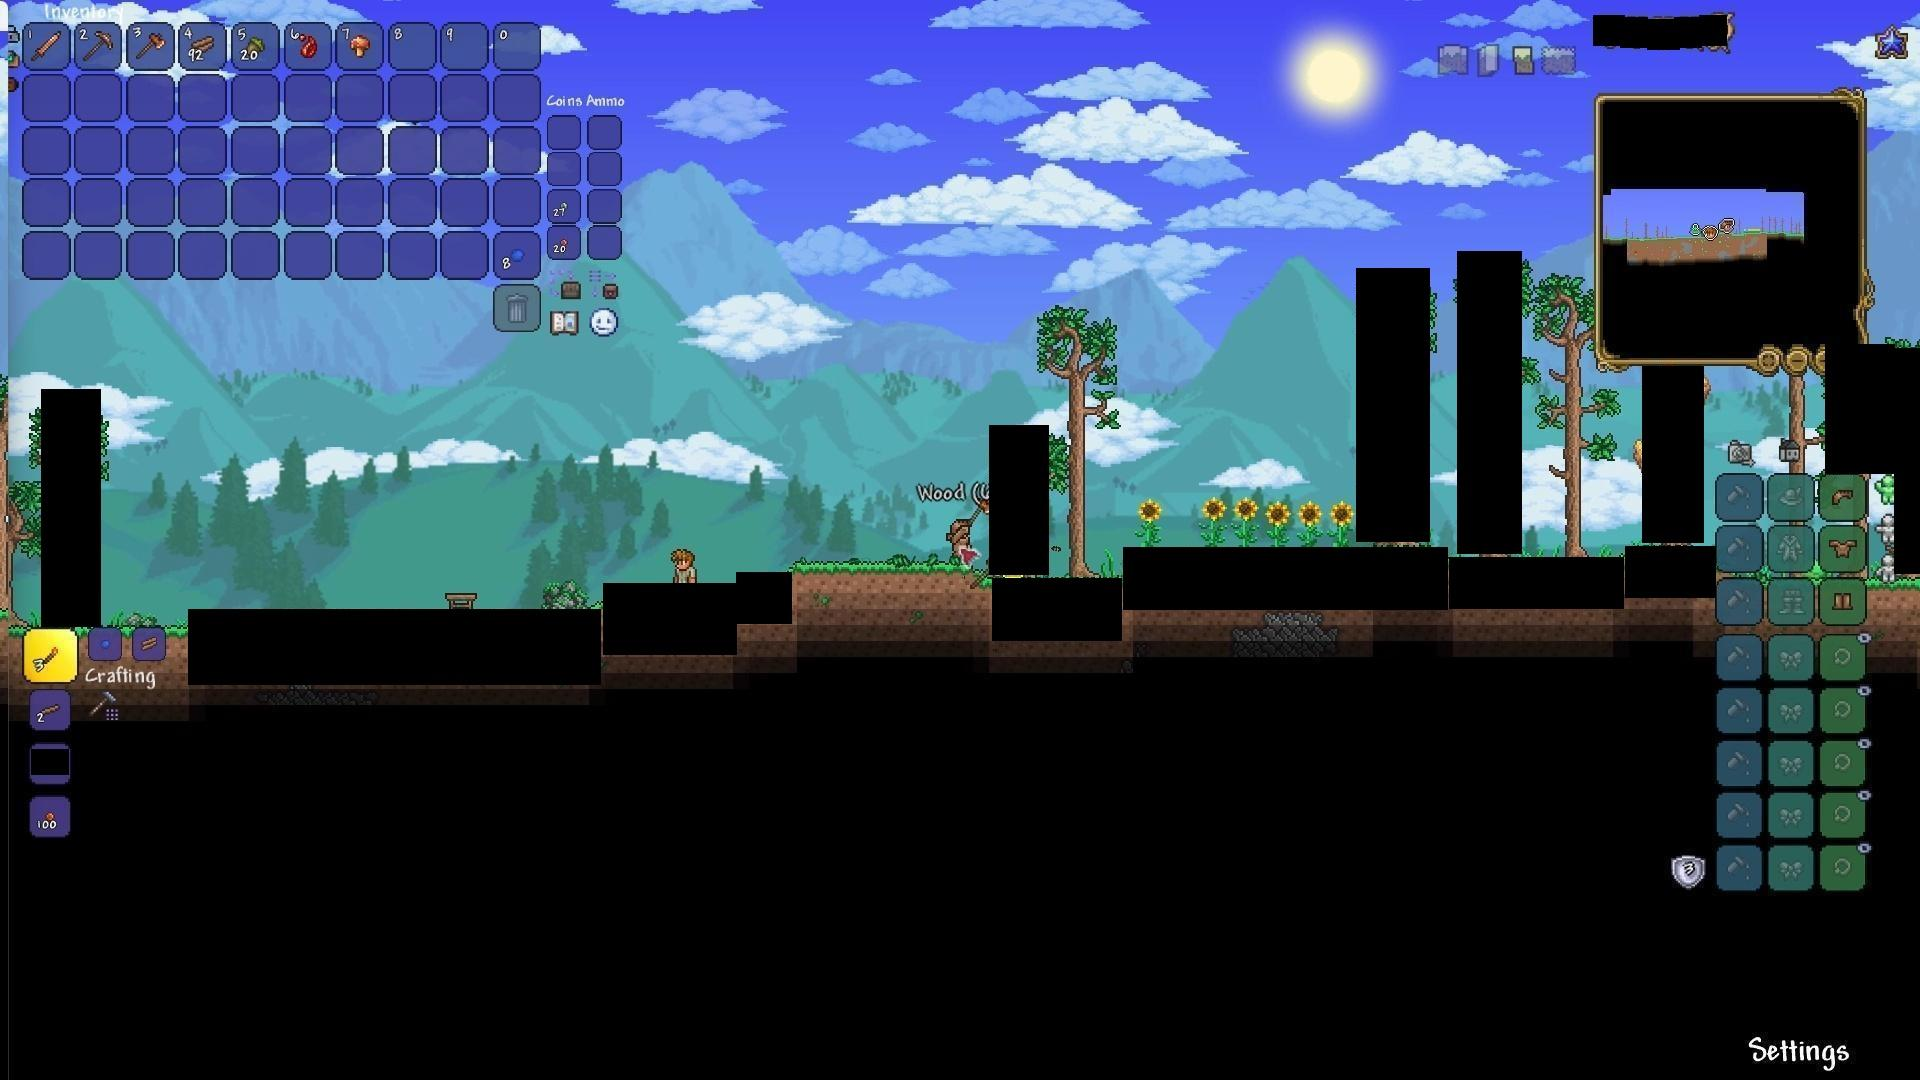breastplate: (1830, 537, 1859, 558)
dirt: (795, 553, 978, 608)
helmet: (1829, 484, 1858, 509)
legs: (1832, 588, 1857, 616)
tree: (1048, 298, 1116, 576), (1535, 277, 1600, 553)
wood: (189, 32, 218, 59)
workbench: (440, 589, 477, 615)
